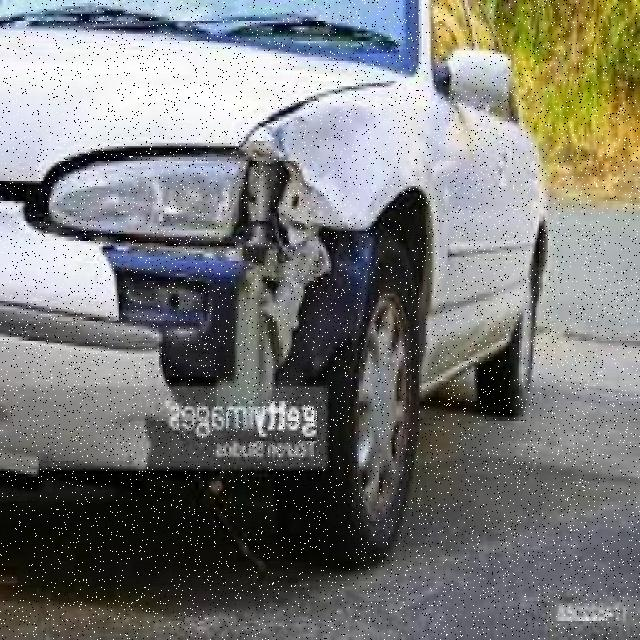damage: (25, 77, 396, 491)
